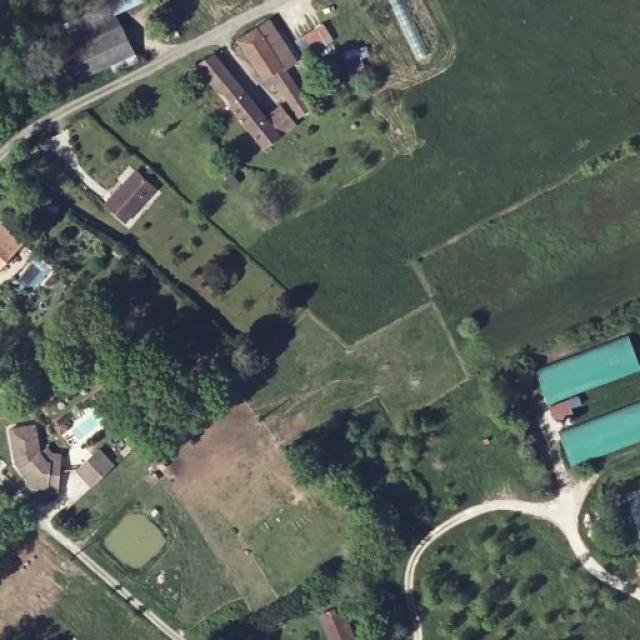ferme: (528, 334, 640, 477)
maison: (196, 19, 319, 145), (0, 405, 115, 503), (22, 0, 136, 76), (0, 196, 50, 296), (93, 154, 158, 220), (318, 587, 359, 640)
piscine: (58, 402, 105, 446)
